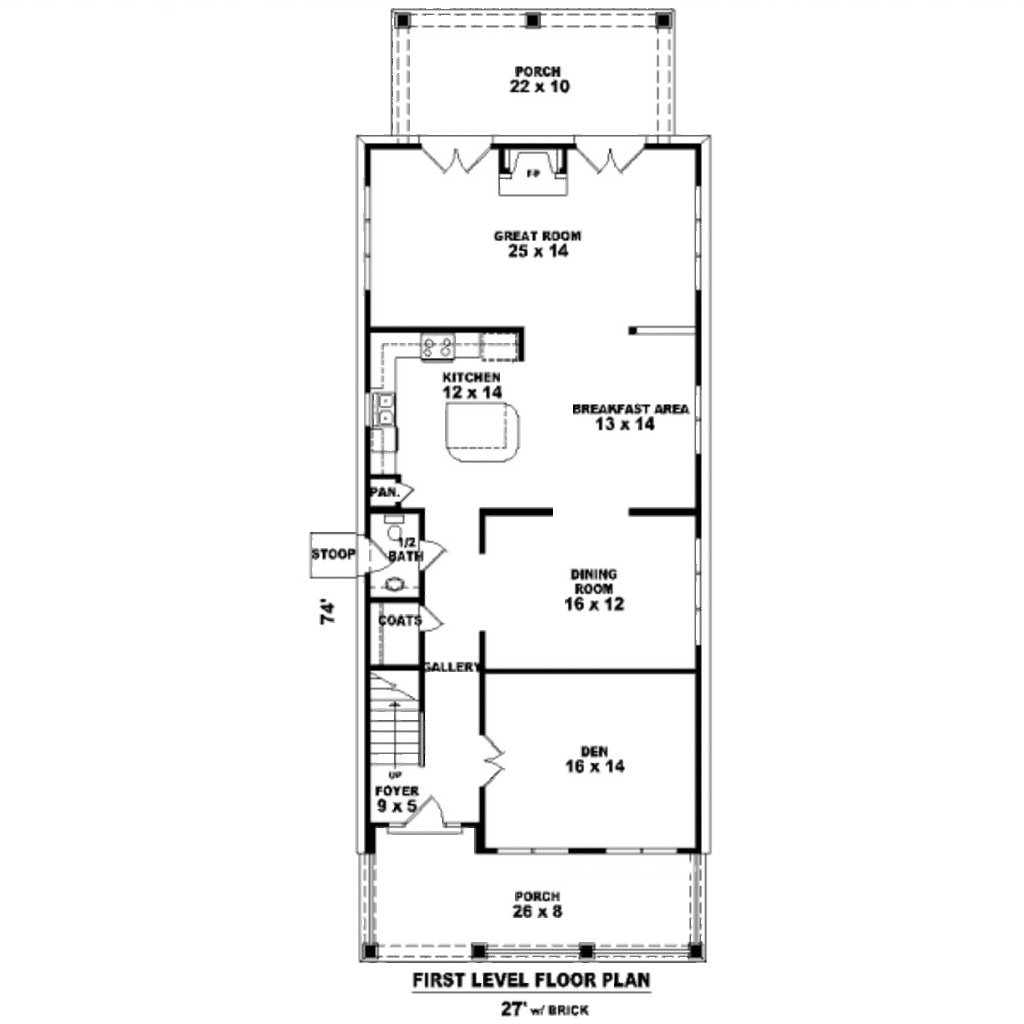door: (570, 132, 652, 175), (415, 134, 493, 176), (401, 798, 447, 833)
stairs: (366, 662, 426, 781)
windows: (687, 533, 709, 648), (359, 184, 378, 295), (690, 181, 704, 292), (690, 382, 708, 457)
